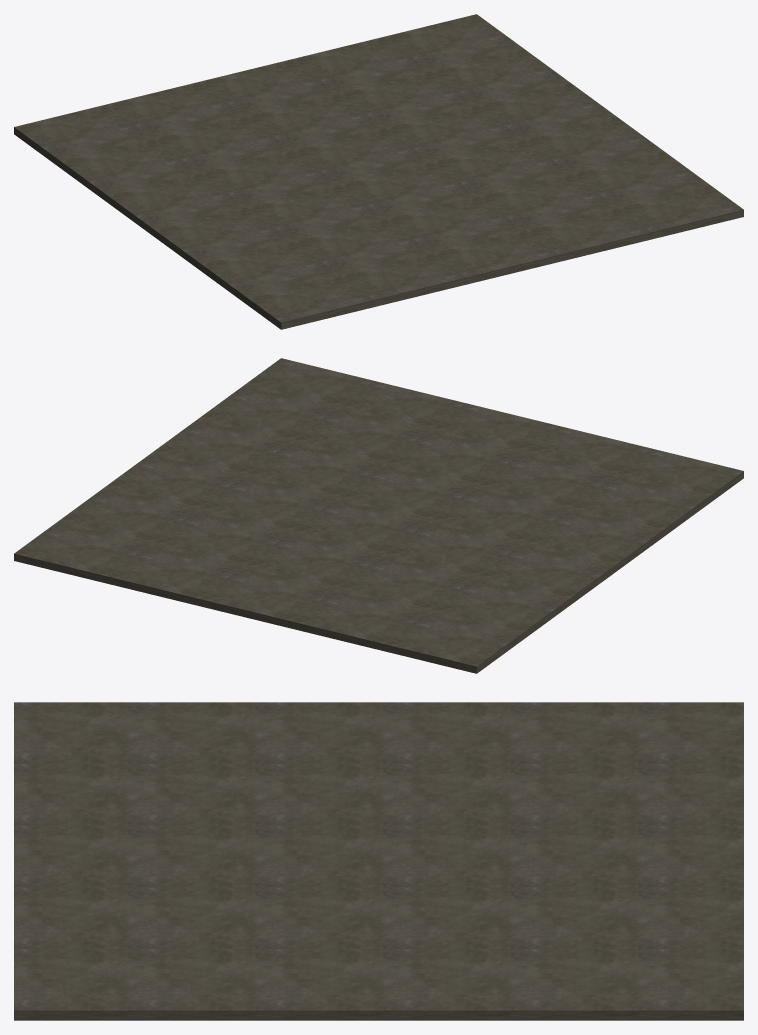
The model's file is RailsConcreteCeiling.fbx.
3 views of the same model, one above another, from view 1: azimuth 30°, elevation 25°; view 2: azimuth 150°, elevation 25°; view 3: azimuth 270°, elevation 25° (orthographic). The views are drawn at different scales.
Visible parts, largest first — view 1: RailsConcreteCeiling; view 2: RailsConcreteCeiling; view 3: RailsConcreteCeiling.
Boxes of the visible parts, bbox=[...] form: RailsConcreteCeiling: bbox=[14, 14, 743, 329]; RailsConcreteCeiling: bbox=[14, 358, 743, 673]; RailsConcreteCeiling: bbox=[14, 702, 743, 1020].
Bounding box in the file's own units: 5 × 0.075 × 5.
